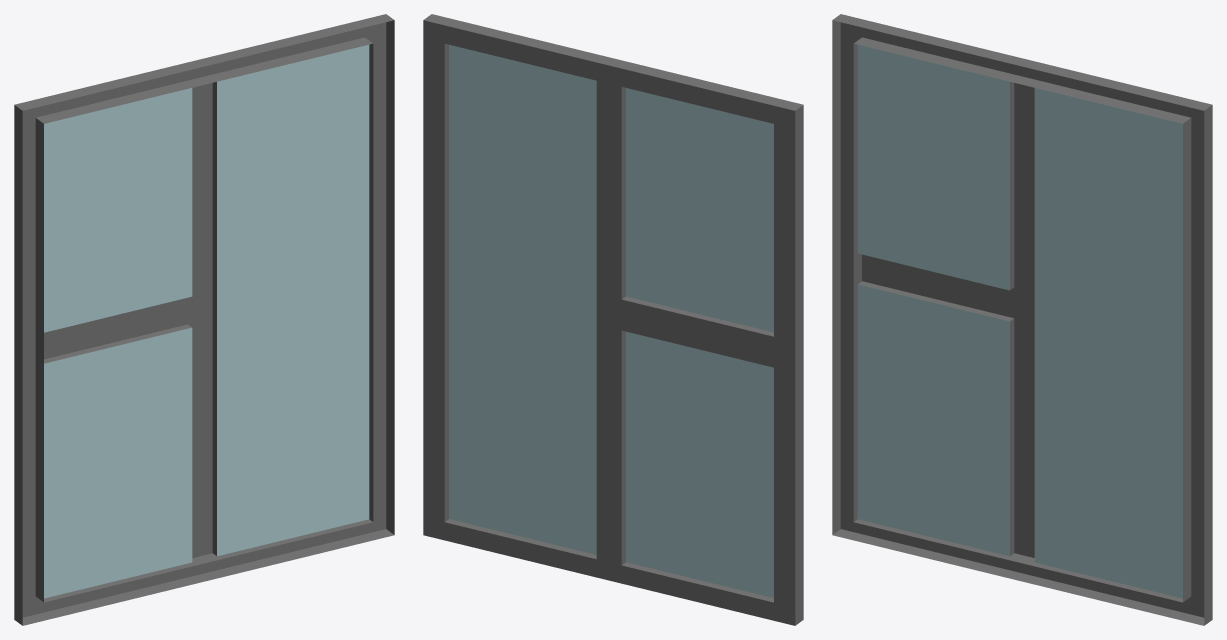
File: New_Flat_window_2.fbx
The picture shows the model from 3 angles, left to right: view 1: azimuth 30°, elevation 25°; view 2: azimuth 150°, elevation 25°; view 3: azimuth 330°, elevation 25°; orthographic projection.
Visible parts, largest first — view 1: New_Flat_window_2; view 2: New_Flat_window_2; view 3: New_Flat_window_2.
Boxes of the visible parts, left/top/right/bottom form: New_Flat_window_2: left=14, top=14, right=394, bottom=625; New_Flat_window_2: left=423, top=14, right=803, bottom=625; New_Flat_window_2: left=832, top=14, right=1212, bottom=625.
Bounding box in the file's own units: 2.39 × 0.0941 × 3.16.
